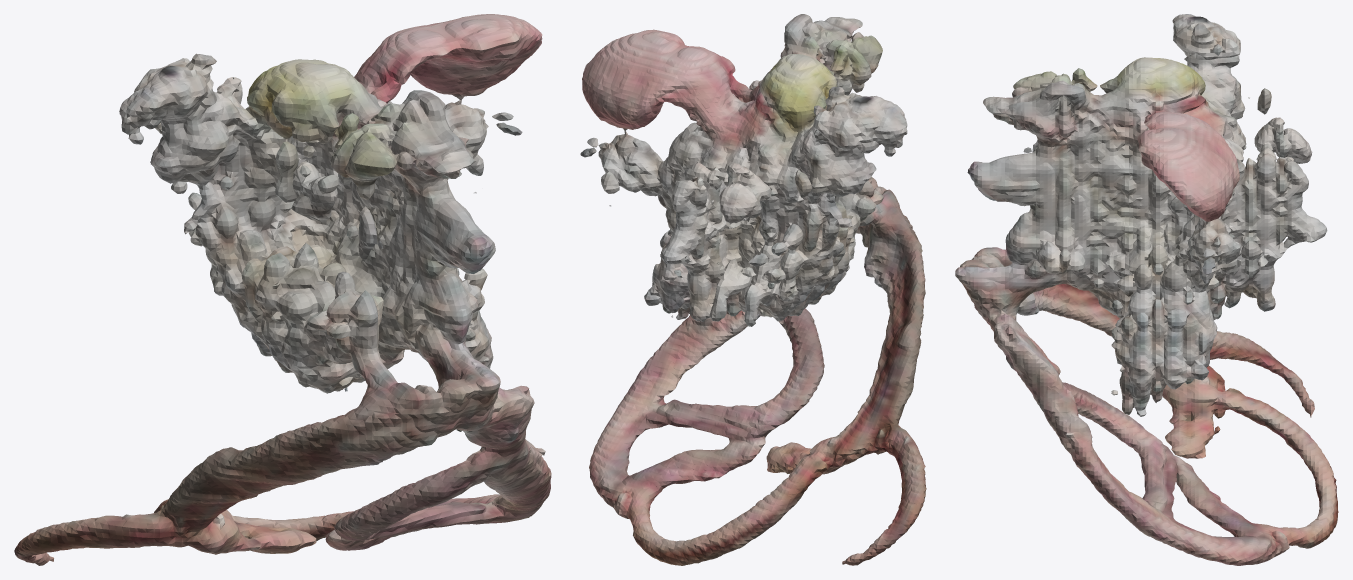
The model's file is 밤송이구린버전.glb.
3 views of the same model, side by side, from view 1: azimuth 30°, elevation 25°; view 2: azimuth 150°, elevation 25°; view 3: azimuth 270°, elevation 25° (orthographic). The views are drawn at different scales.
Visible parts, largest first — view 1: world; view 2: world; view 3: world.
Boxes of the visible parts, bbox=[...] form: world: bbox=[14, 14, 551, 565]; world: bbox=[580, 14, 926, 565]; world: bbox=[955, 14, 1338, 565].
Bounding box in the file's own units: 0.7501 × 0.8916 × 0.6758.
